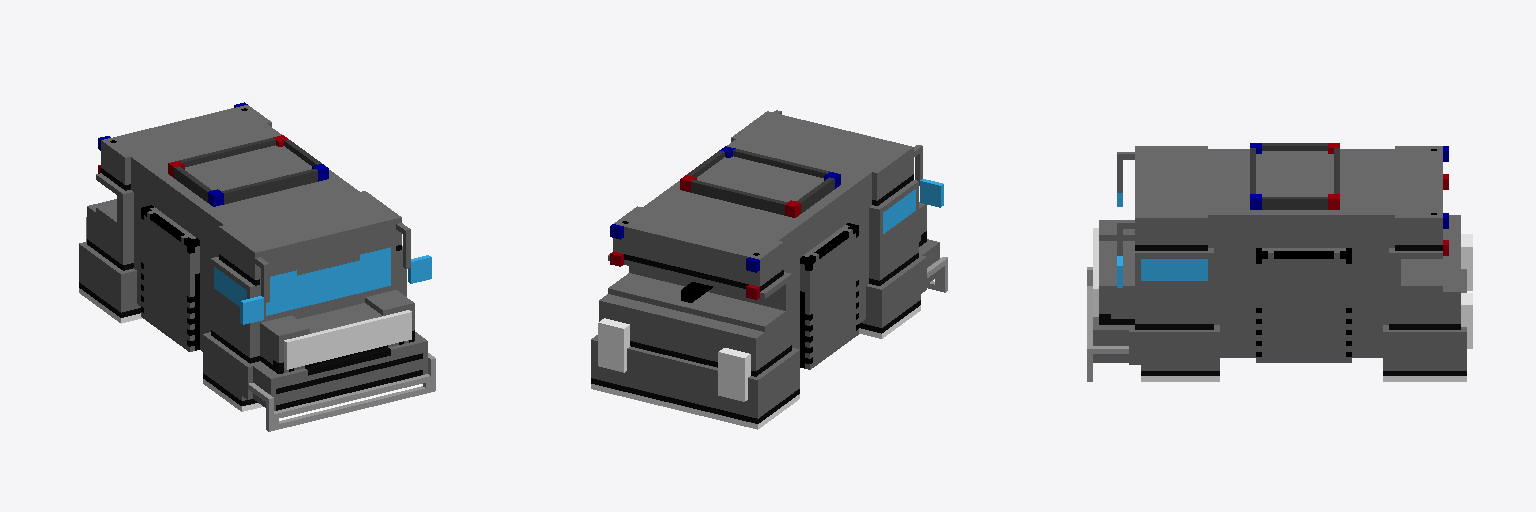
3 views of the same model, side by side, from view 1: azimuth 30°, elevation 25°; view 2: azimuth 150°, elevation 25°; view 3: azimuth 270°, elevation 25° (orthographic).
Visible parts, largest first — view 1: Car2; view 2: Car2; view 3: Car2.
Part boxes in pixels (left/top/right/bottom): Car2: left=79, top=102, right=435, bottom=431; Car2: left=591, top=110, right=947, bottom=429; Car2: left=1087, top=143, right=1472, bottom=381.
Size of the model in its own units: 2.27 by 1.95 by 4.03.
1 materials, 1 textured.